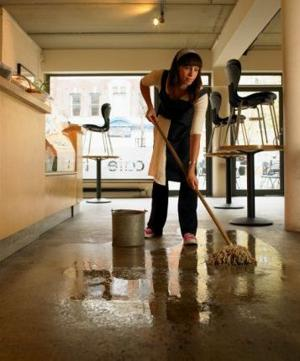person: (139, 47, 209, 249)
